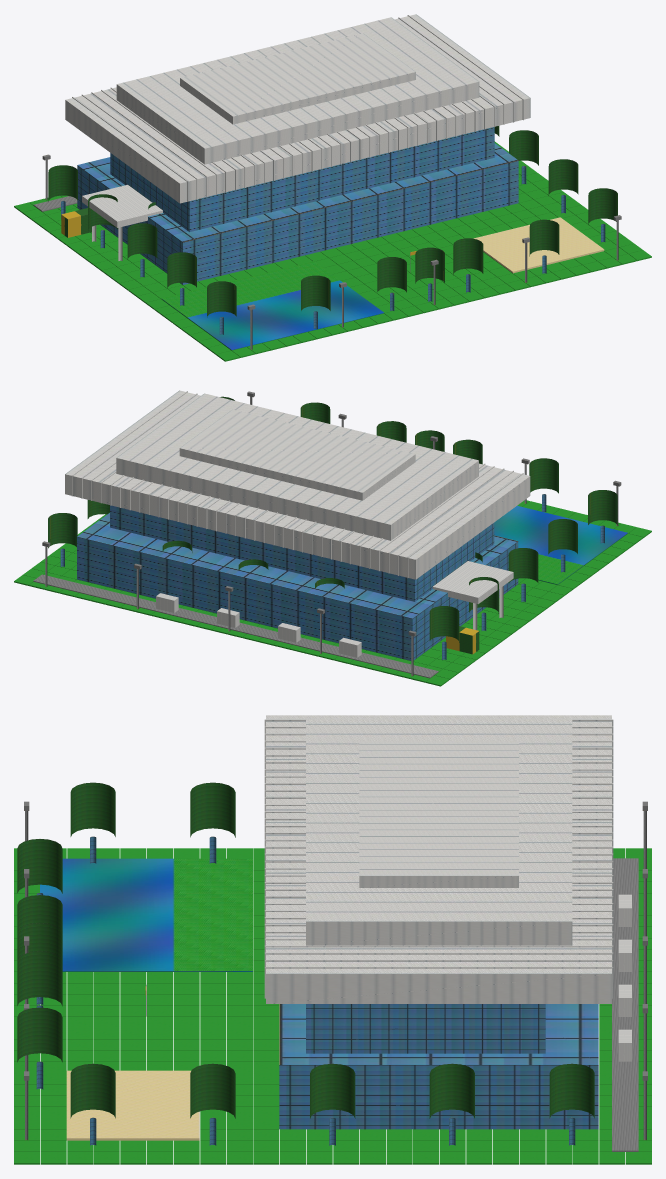
3 renders of one model, top to bottom at view 1: azimuth 30°, elevation 25°; view 2: azimuth 150°, elevation 25°; view 3: azimuth 270°, elevation 25°, orthographic. The views are drawn at different scales.
Parts seen in each view (by area): view 1: 28185_B16_Jack_Nicklaus_Golf_Club; view 2: 28185_B16_Jack_Nicklaus_Golf_Club; view 3: 28185_B16_Jack_Nicklaus_Golf_Club.
Boxes of the visible parts, x1,y1,x2,y2 form: 28185_B16_Jack_Nicklaus_Golf_Club: [14, 14, 651, 361]; 28185_B16_Jack_Nicklaus_Golf_Club: [14, 390, 651, 686]; 28185_B16_Jack_Nicklaus_Golf_Club: [14, 715, 651, 1164].
Size of the model in its own units: 55.95 by 16.5 by 47.95.
1 material, 1 textured.
